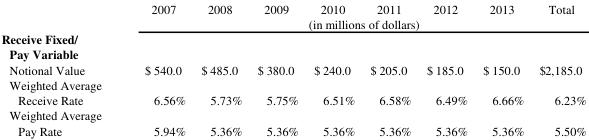table: (0, 1, 585, 137)
table column: (0, 1, 122, 137), (122, 1, 192, 137), (192, 1, 249, 137), (361, 1, 418, 137), (474, 1, 531, 137), (249, 1, 305, 137), (305, 1, 361, 137), (418, 1, 474, 137), (531, 1, 585, 137)
table column header: (0, 1, 585, 30)
table projected row header: (0, 30, 585, 61)
table row: (0, 30, 585, 61), (0, 76, 585, 107), (0, 107, 585, 137), (0, 15, 585, 30), (0, 61, 585, 76), (0, 1, 585, 15)
table spanning cell: (122, 15, 585, 30)
